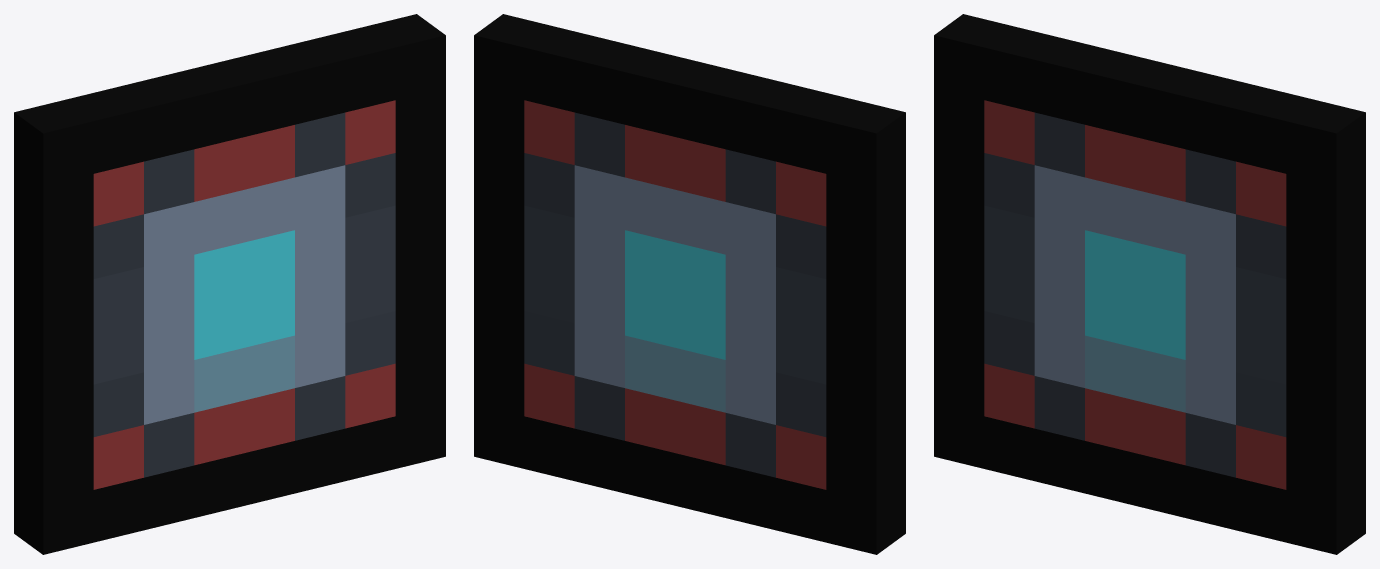
The model's file is Frost Wraith Spawner Block.glb.
The picture shows the model from 3 angles, left to right: view 1: azimuth 30°, elevation 25°; view 2: azimuth 150°, elevation 25°; view 3: azimuth 330°, elevation 25°; orthographic projection.
Visible parts, largest first — view 1: generated(Clone); view 2: generated(Clone); view 3: generated(Clone).
Part boxes in pixels (x1,y1,x2,y2): generated(Clone): (14, 14, 445, 554); generated(Clone): (474, 14, 905, 554); generated(Clone): (934, 14, 1365, 554).
Bounding box in the file's own units: 8 × 8 × 1.
1 material, 1 textured.
